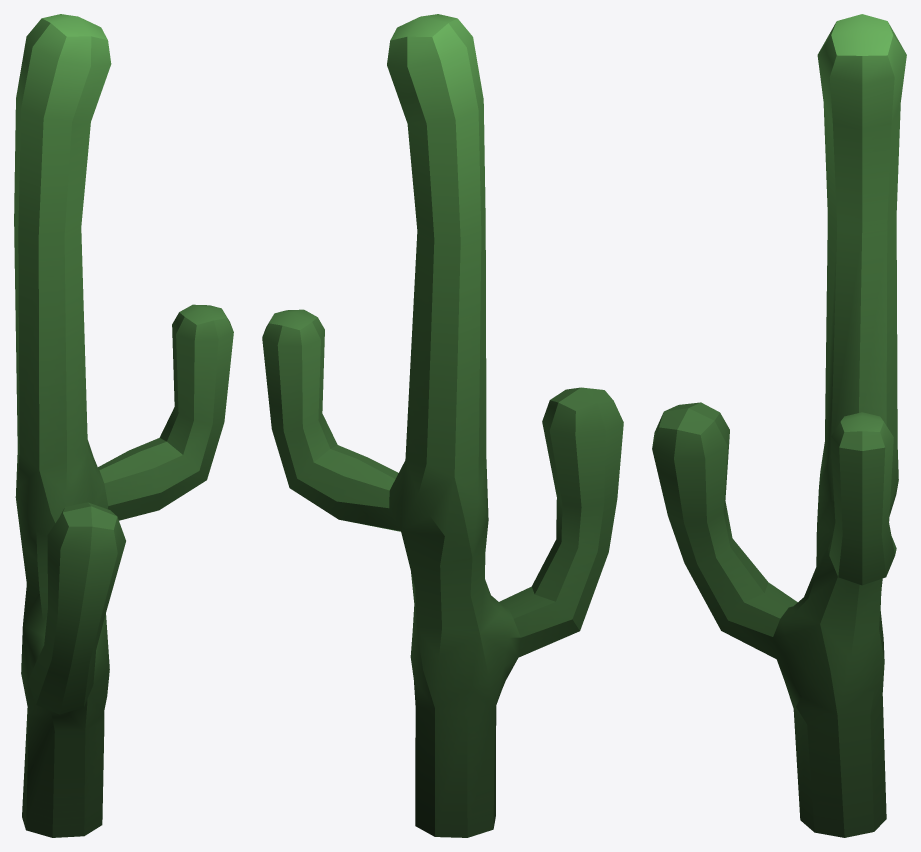
The model's file is Cactus_A_2.fbx.
3 renders of one model, left to right at view 1: azimuth 30°, elevation 25°; view 2: azimuth 150°, elevation 25°; view 3: azimuth 270°, elevation 25°, orthographic.
Parts seen in each view (by area): view 1: Cactus_A_2; view 2: Cactus_A_2; view 3: Cactus_A_2.
Boxes of the visible parts, <box> form: Cactus_A_2: <box>14,14,233,837</box>; Cactus_A_2: <box>262,14,623,837</box>; Cactus_A_2: <box>652,14,906,837</box>.
Bounding box in the file's own units: 35.72 × 104 × 29.77.
